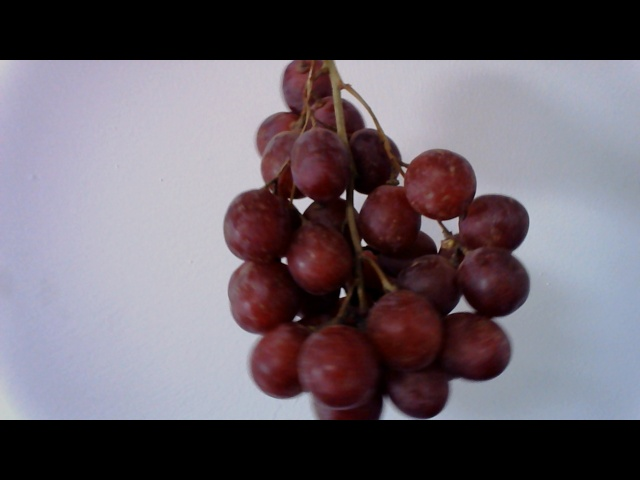grape: (225, 92, 520, 418)
